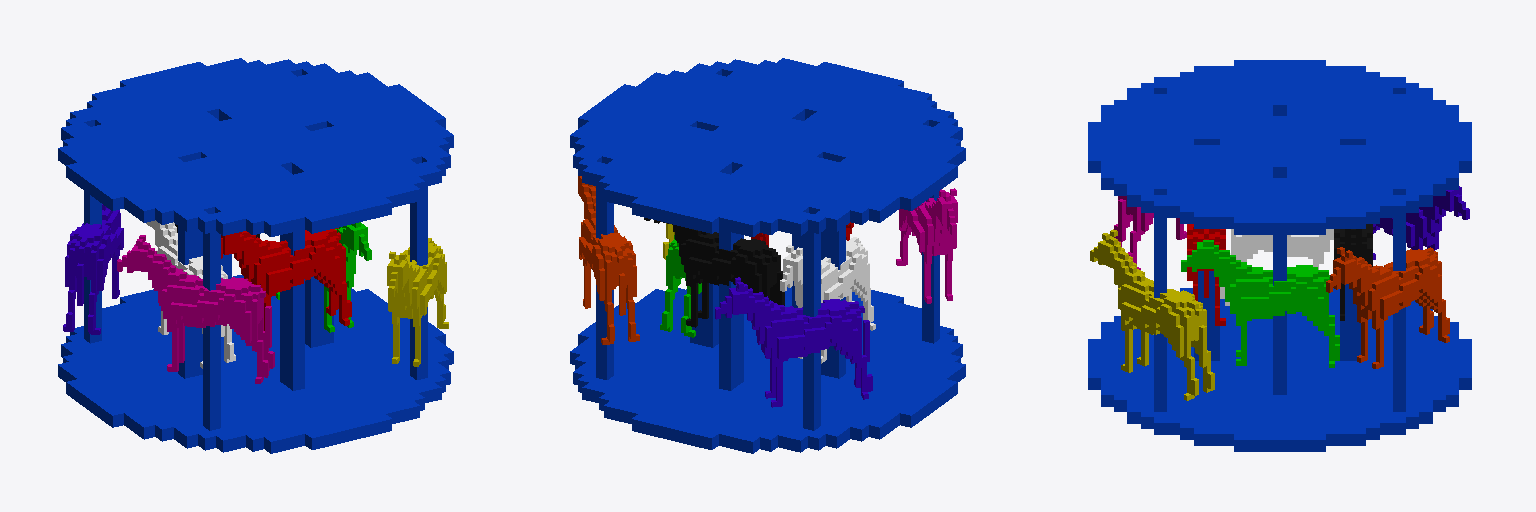
The model's file is gira.obj.
3 renders of one model, left to right at view 1: azimuth 30°, elevation 25°; view 2: azimuth 150°, elevation 25°; view 3: azimuth 270°, elevation 25°, orthographic.
Parts seen in each view (by area): view 1: Cylinder.001_Cylinder.002, 10026_Horse_v01.001, 10026_Horse_v01.004, 10026_Horse_v01.002, 10026_Horse_v01.003, 10026_Horse_v01.006, 10026_Horse_v01.007; view 2: Cylinder.001_Cylinder.002, 10026_Horse_v01.002, 10026_Horse_v01.005, 10026_Horse_v01, 10026_Horse_v01.001, 10026_Horse_v01.006, 10026_Horse_v01.007; view 3: Cylinder.001_Cylinder.002, 10026_Horse_v01.003, 10026_Horse_v01.007, 10026_Horse_v01, 10026_Horse_v01.002, 10026_Horse_v01.006, 10026_Horse_v01.001, 10026_Horse_v01.004, 10026_Horse_v01.005.
Part boxes in pixels (x1,y1,x2,y2): Cylinder.001_Cylinder.002: (58, 58, 453, 453); 10026_Horse_v01.001: (117, 235, 274, 383); 10026_Horse_v01.004: (221, 229, 351, 330); 10026_Horse_v01.002: (63, 204, 123, 334); 10026_Horse_v01.003: (387, 238, 448, 366); 10026_Horse_v01.006: (146, 220, 235, 368); 10026_Horse_v01.007: (276, 222, 371, 332); Cylinder.001_Cylinder.002: (570, 58, 965, 453); 10026_Horse_v01.002: (715, 277, 872, 407); 10026_Horse_v01.005: (644, 218, 784, 327); 10026_Horse_v01: (578, 176, 639, 344); 10026_Horse_v01.001: (896, 188, 957, 303); 10026_Horse_v01.006: (780, 237, 875, 363); 10026_Horse_v01.007: (660, 235, 701, 337); Cylinder.001_Cylinder.002: (1088, 60, 1471, 451); 10026_Horse_v01.003: (1090, 229, 1214, 400); 10026_Horse_v01.007: (1181, 240, 1339, 367); 10026_Horse_v01: (1326, 247, 1449, 368); 10026_Horse_v01.002: (1373, 186, 1469, 259); 10026_Horse_v01.006: (1220, 229, 1333, 305); 10026_Horse_v01.001: (1114, 196, 1186, 269); 10026_Horse_v01.004: (1187, 224, 1225, 325); 10026_Horse_v01.005: (1334, 224, 1372, 320).
Bounding box in the file's own units: 13.09 × 8.58 × 13.09.